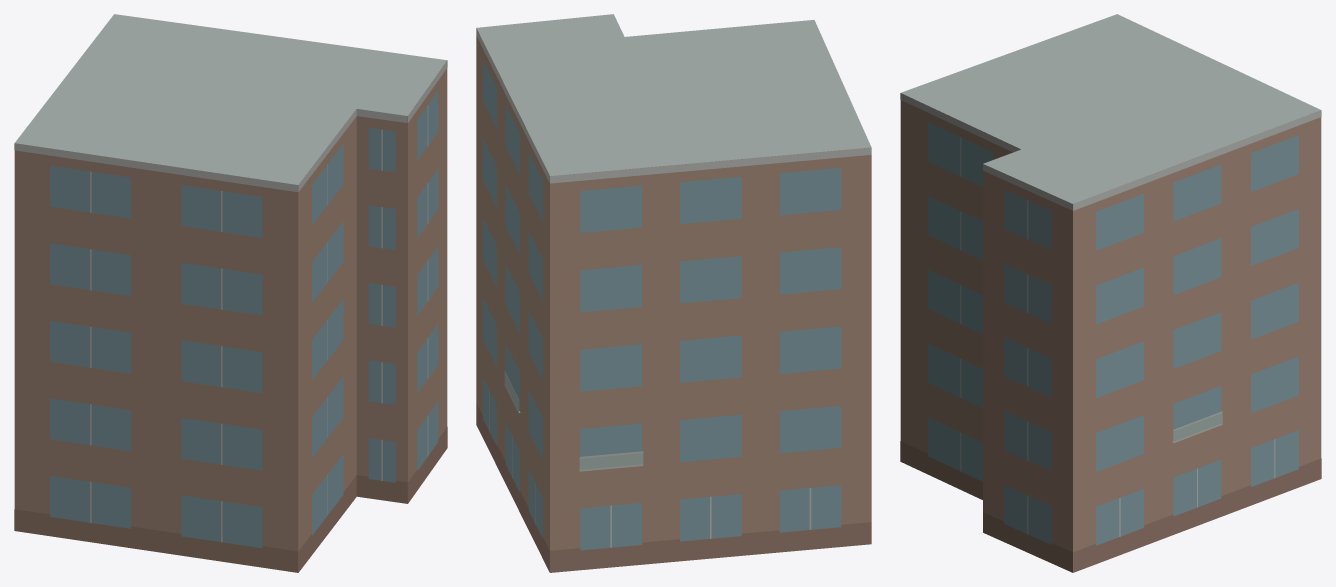
Rendered from survey-upis-32646471.glb.
3 renders of one model, left to right at view 1: azimuth 30°, elevation 25°; view 2: azimuth 150°, elevation 25°; view 3: azimuth 270°, elevation 25°, orthographic. The views are drawn at different scales.
Parts seen in each view (by area): view 1: survey-upis-32646471.tmp; view 2: survey-upis-32646471.tmp; view 3: survey-upis-32646471.tmp.
Boxes of the visible parts, x1,y1,x2,y2 form: survey-upis-32646471.tmp: (14,14,447,572); survey-upis-32646471.tmp: (476,14,871,572); survey-upis-32646471.tmp: (900,14,1321,572).
Bounding box in the file's own units: 14.55 × 13.15 × 13.61.
